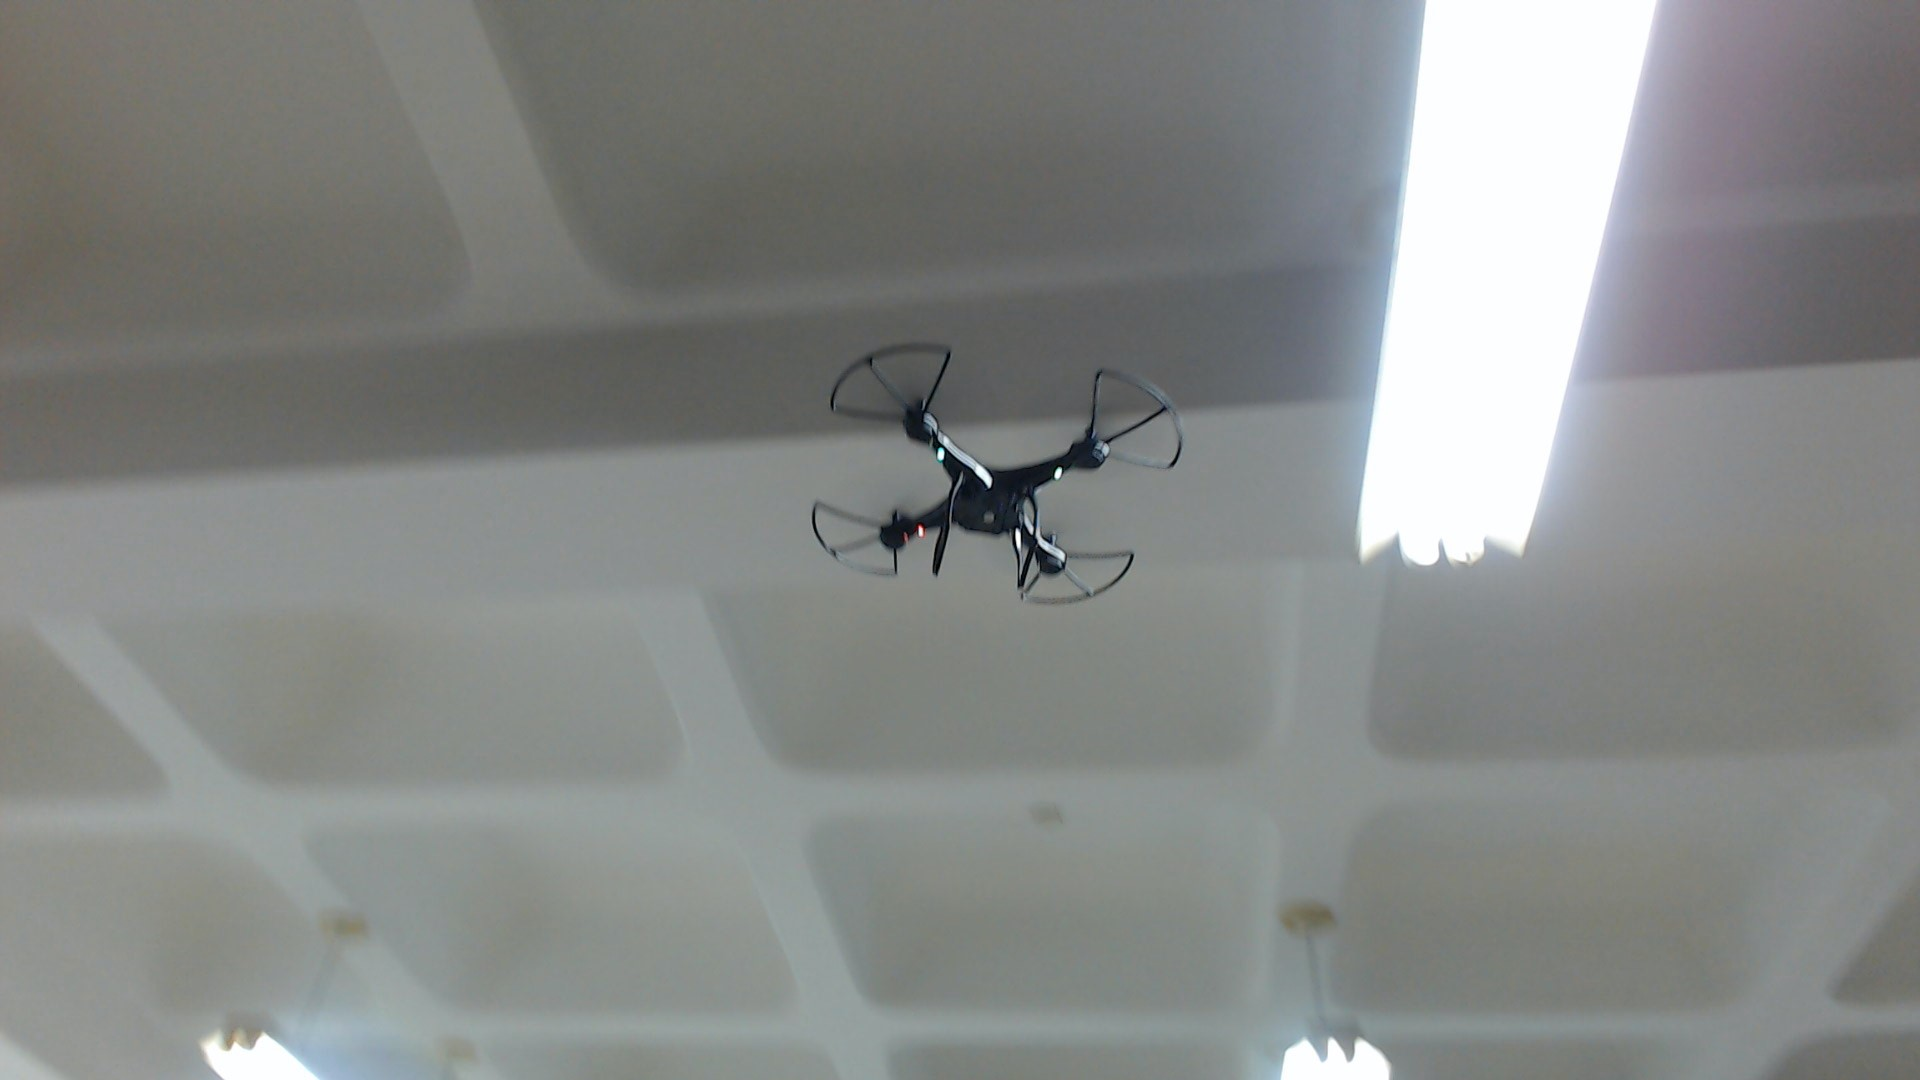test_drone: (807, 338, 1185, 612)
